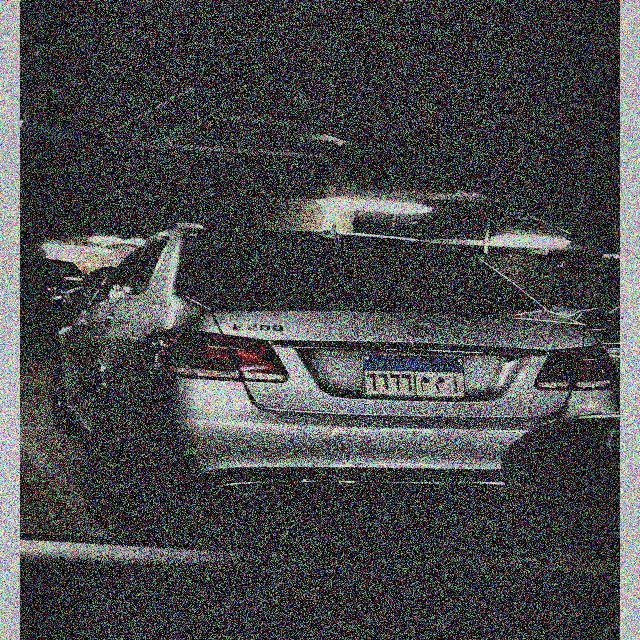License Plate: (360, 352, 469, 400)
